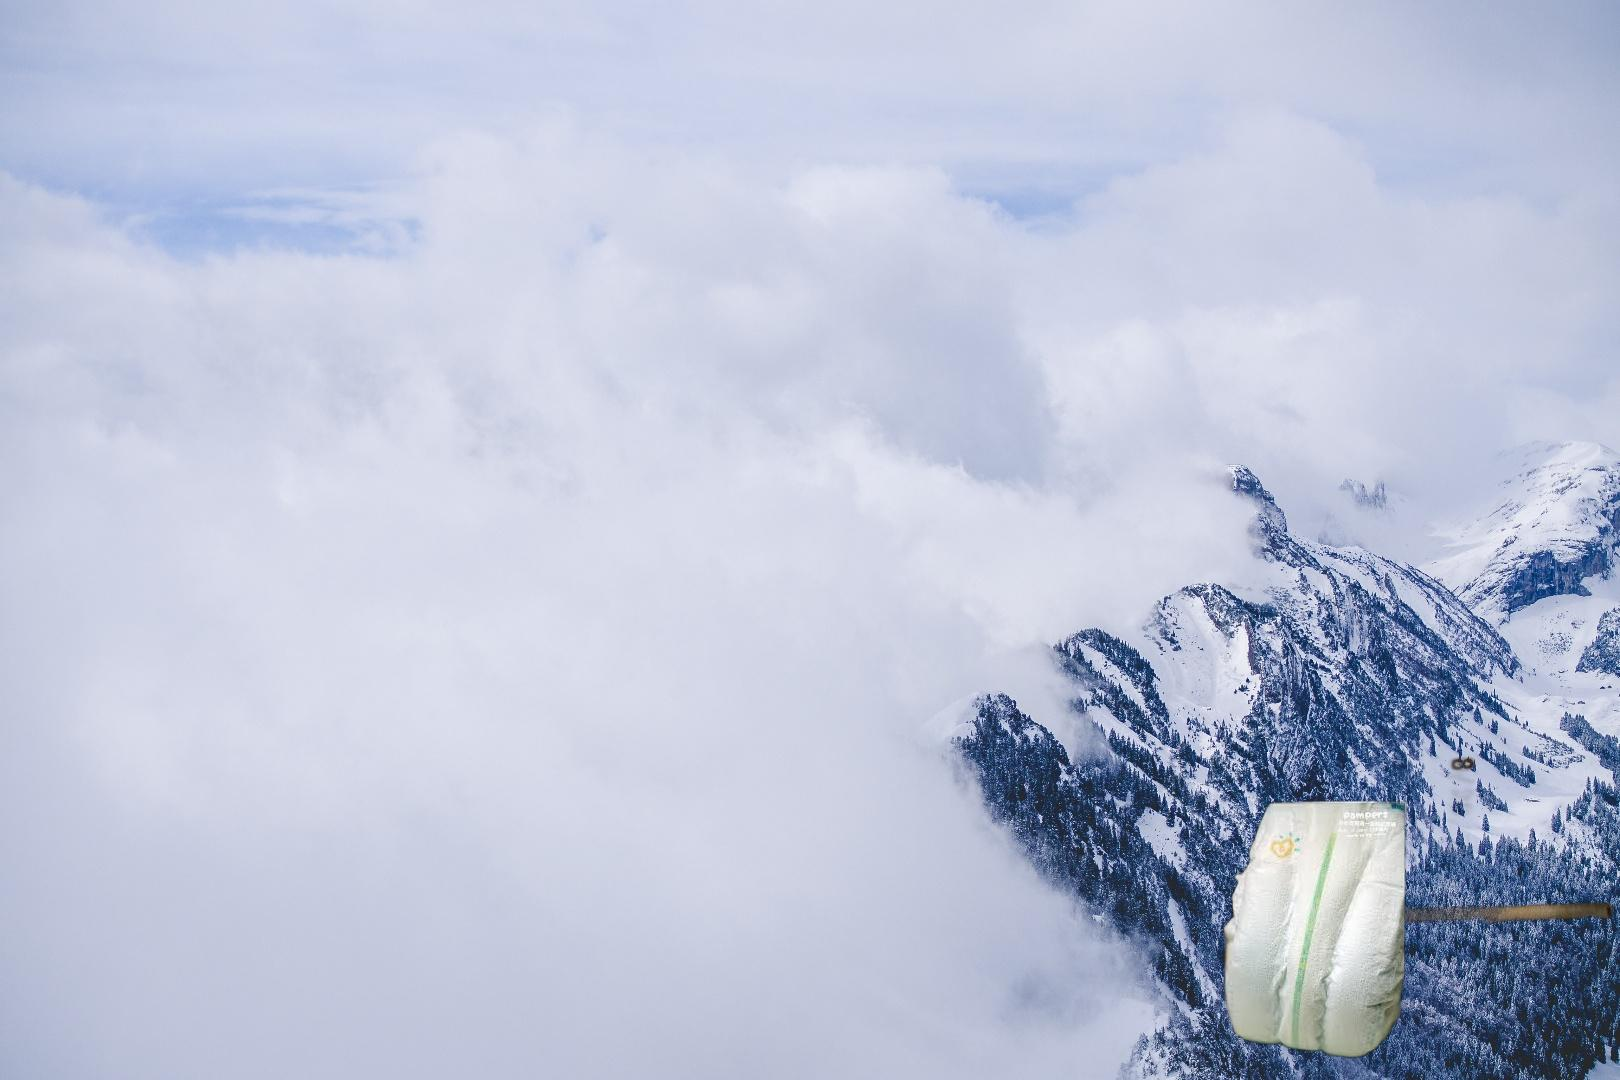trash: (1217, 802, 1407, 1066)
trashbox-cardboard: (1405, 681, 1620, 1066)
